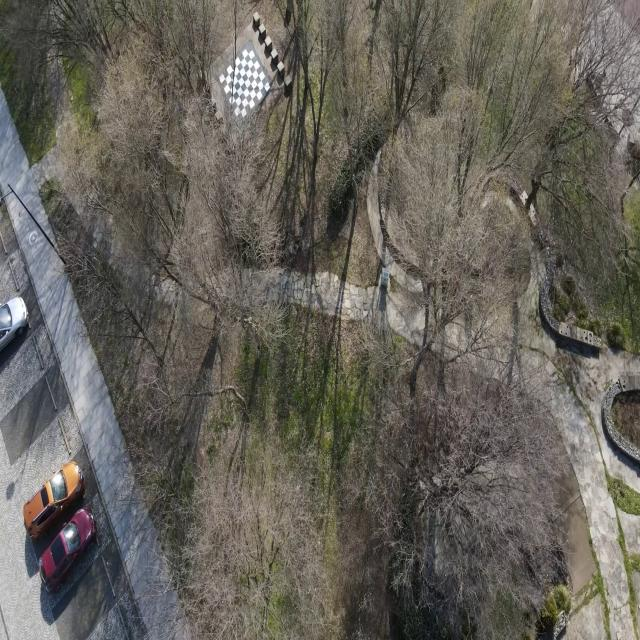vehicle: (40, 508, 98, 594), (22, 460, 84, 540), (0, 295, 28, 368)
